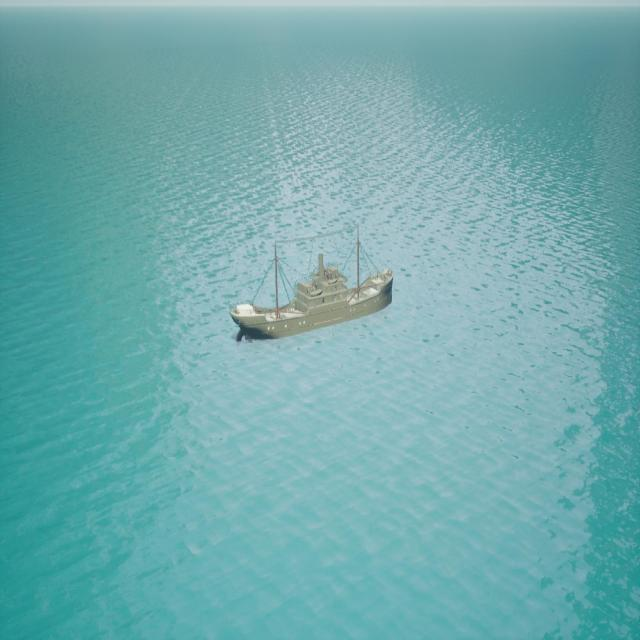fishing ship: (231, 261, 395, 342)
